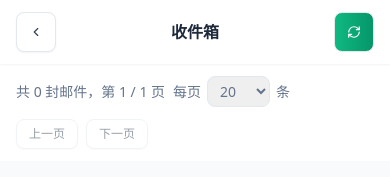
Test: MailListPage › 无新邮件时显示灰色 Toast 提示"暂无新邮件"
Click the button named "收取邮件" at (354, 32), box [334, 12, 374, 52]
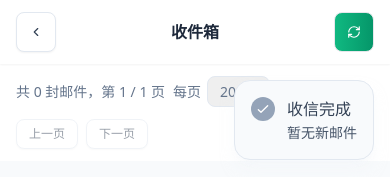
expect the text "收信完成" is shown: met, box [287, 97, 357, 121]
expect the text "暂无新邮件" is shown: met, box [287, 123, 357, 143]
